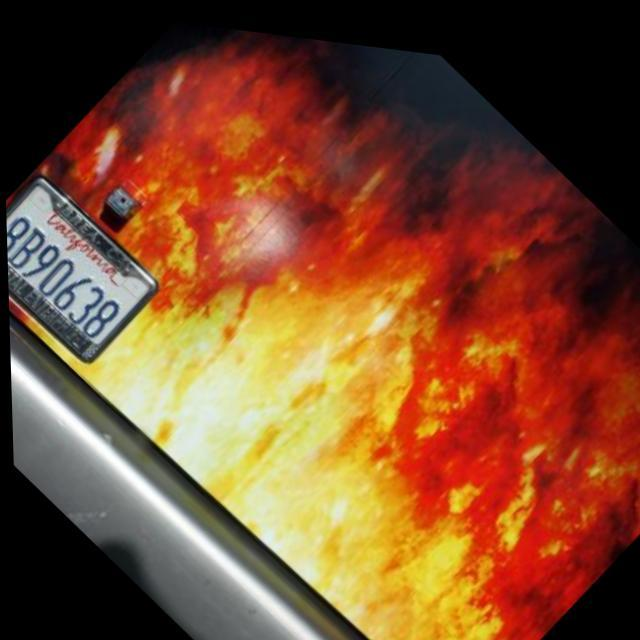license_plate: (3, 162, 165, 375)
